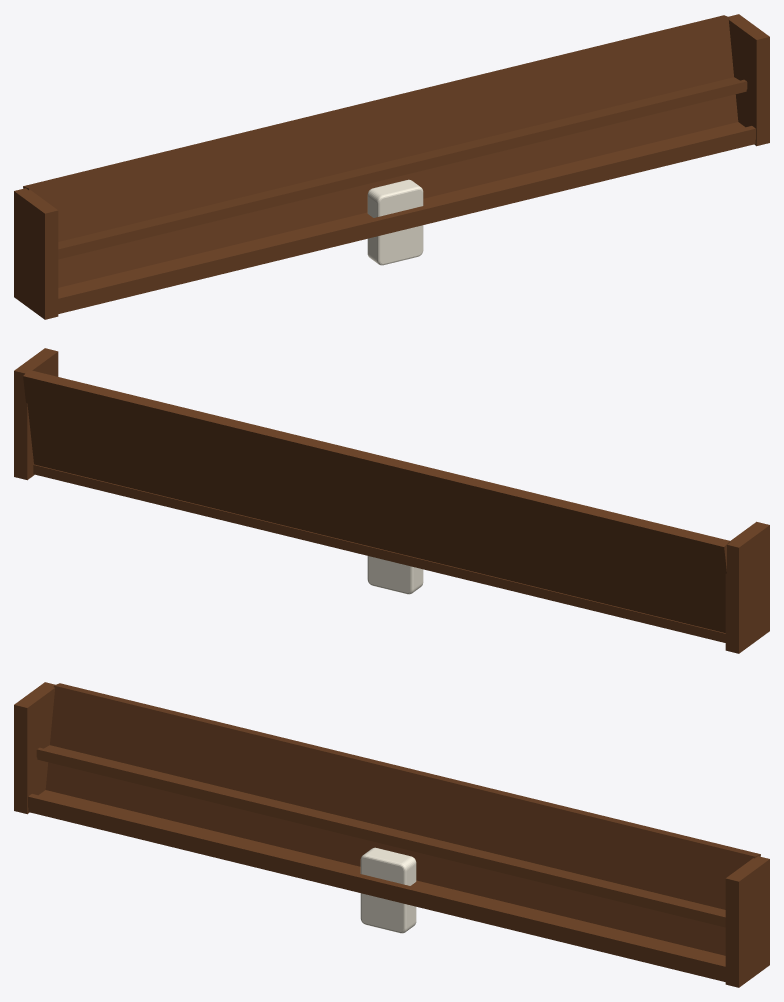
The model's file is okey.glb.
The picture shows the model from 3 angles, top to bottom: view 1: azimuth 30°, elevation 25°; view 2: azimuth 150°, elevation 25°; view 3: azimuth 330°, elevation 25°; orthographic projection.
Parts seen in each view (by area): view 1: okey_rack, okey_tile; view 2: okey_rack, okey_tile; view 3: okey_rack, okey_tile.
Part boxes in pixels (<box>): okey_rack: <box>14,14,769,319</box>; okey_tile: <box>367,179,423,265</box>; okey_rack: <box>14,348,769,653</box>; okey_tile: <box>367,556,423,594</box>; okey_rack: <box>14,682,769,987</box>; okey_tile: <box>360,847,416,933</box>.
Bounding box in the file's own units: 9.72 × 1.83 × 0.787.
